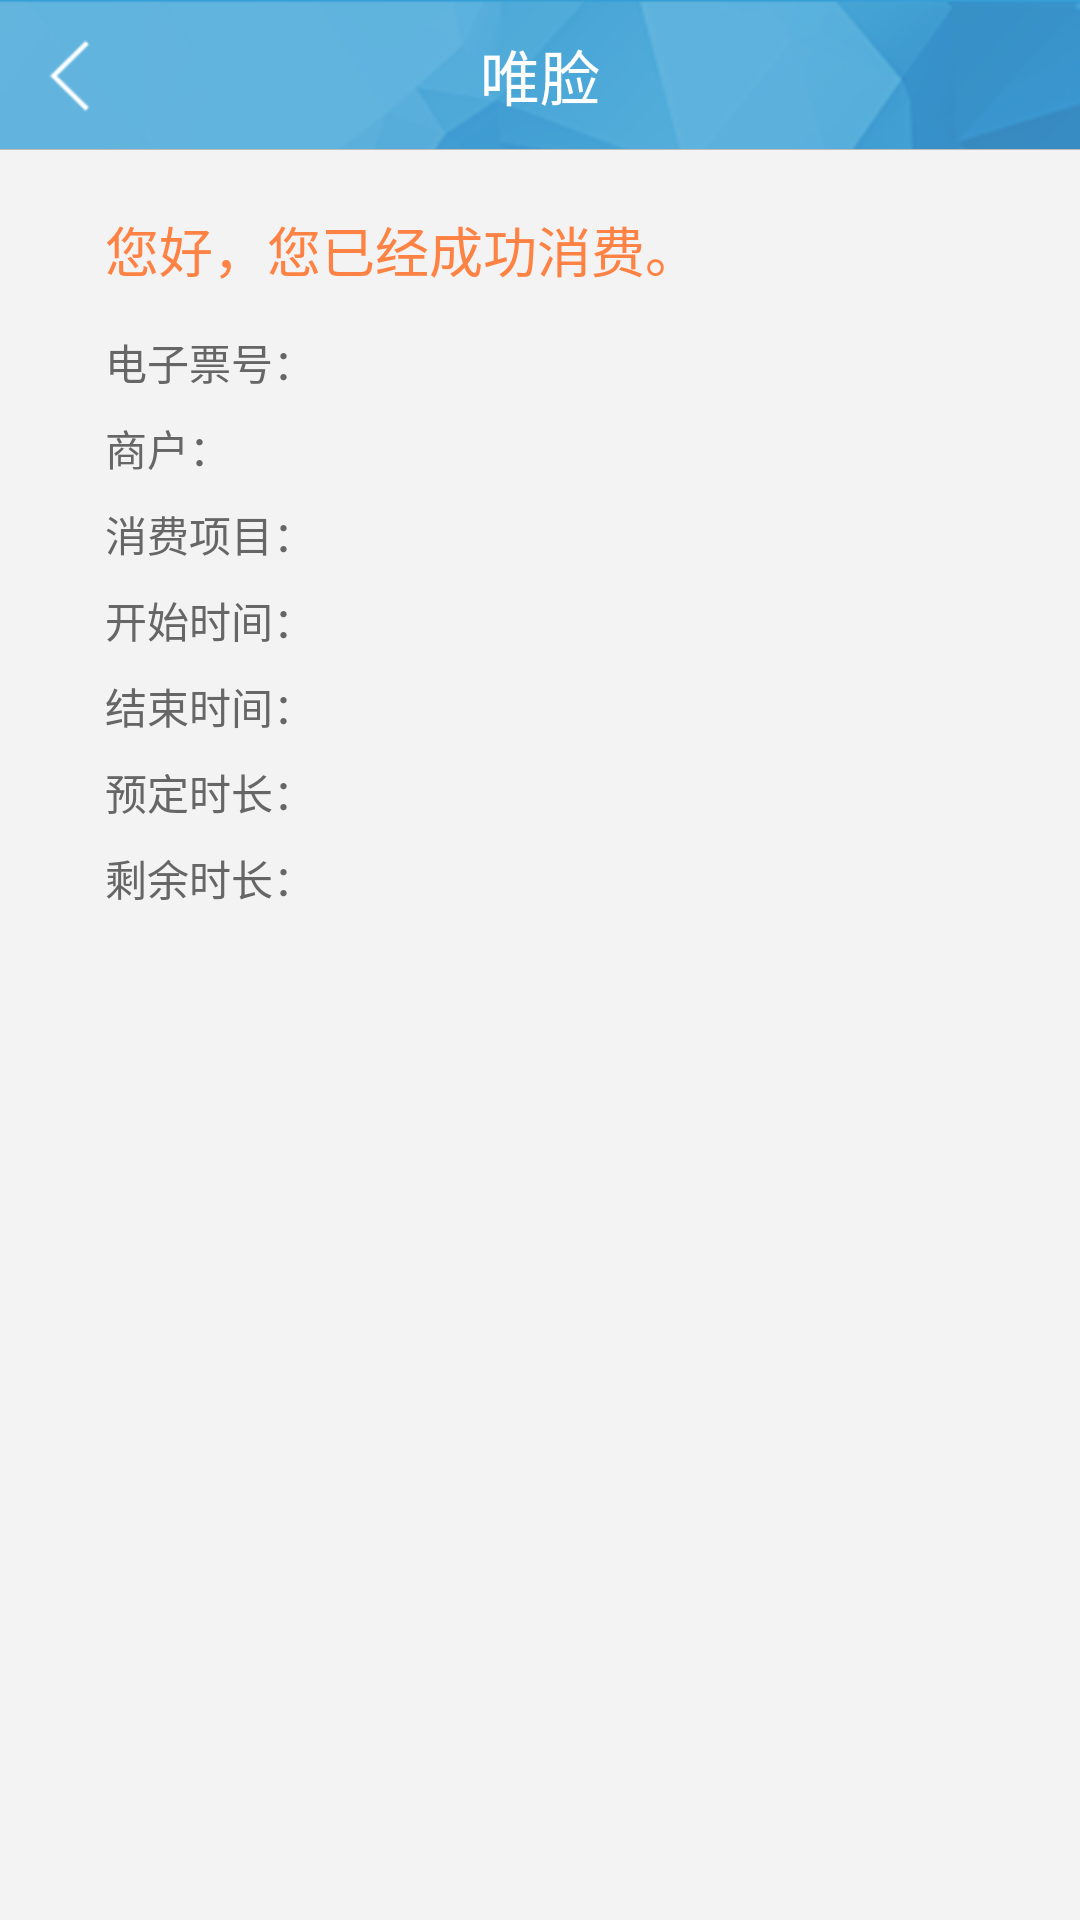

Icons on this 1080*1920 Android screen, each with the point to tap as [x,y]:
back: [69,76]
